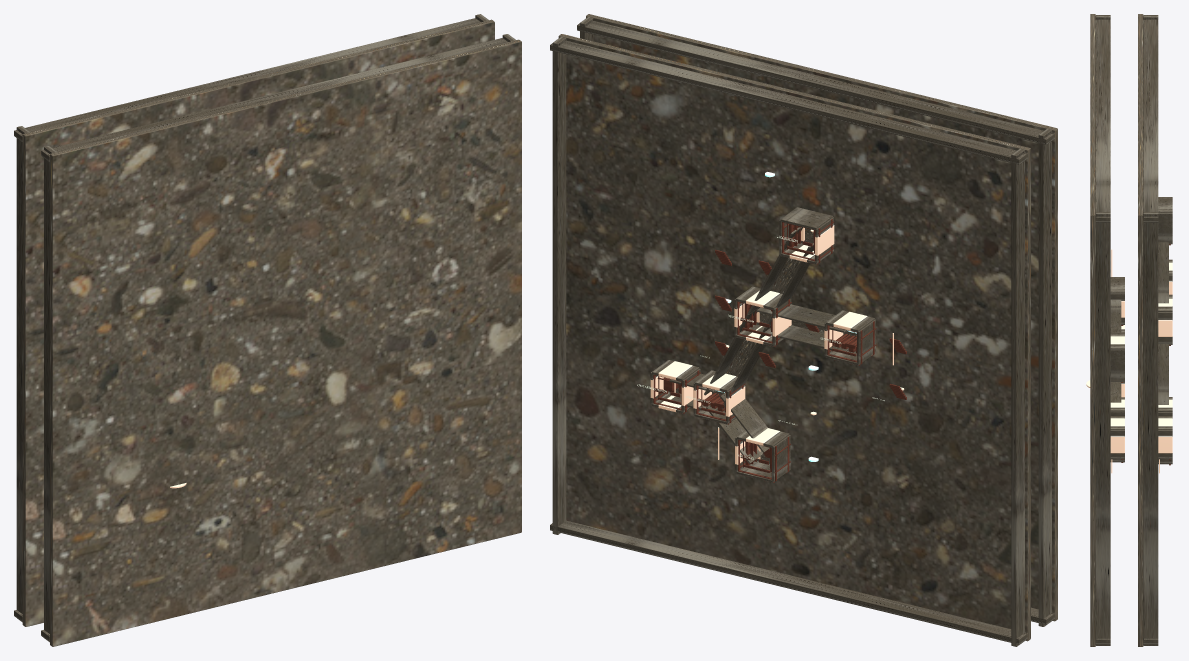
Rendered from x01-reconstruction.glb.
3 views of the same model, side by side, from view 1: azimuth 30°, elevation 25°; view 2: azimuth 150°, elevation 25°; view 3: azimuth 270°, elevation 25° (orthographic). The views are drawn at different scales.
Parts seen in each view (by area): view 1: Foundation slab lower, Foundation slab upper, Outer perimeter wall.006, Outer perimeter wall.002, Outer perimeter wall.001, Outer perimeter wall.005; view 2: Foundation slab upper, Foundation slab lower, Outer perimeter wall.007, Outer perimeter wall.006, Outer perimeter wall.002, Outer perimeter wall.005, Outer perimeter wall.001, Outer perimeter wall.004, Passage wall.023, Passage wall.016, Passage wall.022, Concrete bulkhead.098; view 3: Outer perimeter wall.003, Outer perimeter wall.007, Foundation slab lower, Foundation slab upper, Outer perimeter wall.001, Outer perimeter wall.005, Passage wall.025, Passage wall.021, Concrete bulkhead.058, Concrete bulkhead.099, Passage wall.014, Blast door frame.010 (+5 smaller).
Boxes of the visible parts, <box> form: Foundation slab lower: <box>50,39,521,646</box>; Foundation slab upper: <box>22,19,494,626</box>; Outer perimeter wall.006: <box>16,126,29,622</box>; Outer perimeter wall.002: <box>44,145,56,642</box>; Outer perimeter wall.001: <box>41,38,507,161</box>; Outer perimeter wall.005: <box>14,18,480,141</box>; Foundation slab upper: <box>558,34,1030,641</box>; Foundation slab lower: <box>586,14,1057,621</box>; Outer perimeter wall.007: <box>552,36,566,534</box>; Outer perimeter wall.006: <box>1011,148,1024,646</box>; Outer perimeter wall.002: <box>1038,128,1051,626</box>; Outer perimeter wall.005: <box>550,40,1027,164</box>; Outer perimeter wall.001: <box>577,21,1054,144</box>; Outer perimeter wall.004: <box>550,520,1027,644</box>; Passage wall.023: <box>757,304,847,332</box>; Passage wall.016: <box>720,392,769,452</box>; Passage wall.022: <box>757,325,848,351</box>; Concrete bulkhead.098: <box>780,207,832,229</box>; Outer perimeter wall.003: <box>1095,212,1110,645</box>; Outer perimeter wall.007: <box>1143,212,1158,645</box>; Foundation slab lower: <box>1090,14,1095,646</box>; Foundation slab upper: <box>1138,14,1143,646</box>; Outer perimeter wall.001: <box>1095,19,1110,222</box>; Outer perimeter wall.005: <box>1143,19,1158,222</box>; Passage wall.025: <box>1158,242,1168,303</box>; Passage wall.021: <box>1158,344,1168,404</box>; Concrete bulkhead.058: <box>1110,349,1124,381</box>; Concrete bulkhead.099: <box>1158,213,1172,243</box>; Passage wall.014: <box>1110,299,1121,332</box>; Blast door frame.010: <box>1110,436,1124,453</box>.
Size of the model in its own units: 43 by 43 by 7.97.
Materials: 25 (4 with a texture image).
